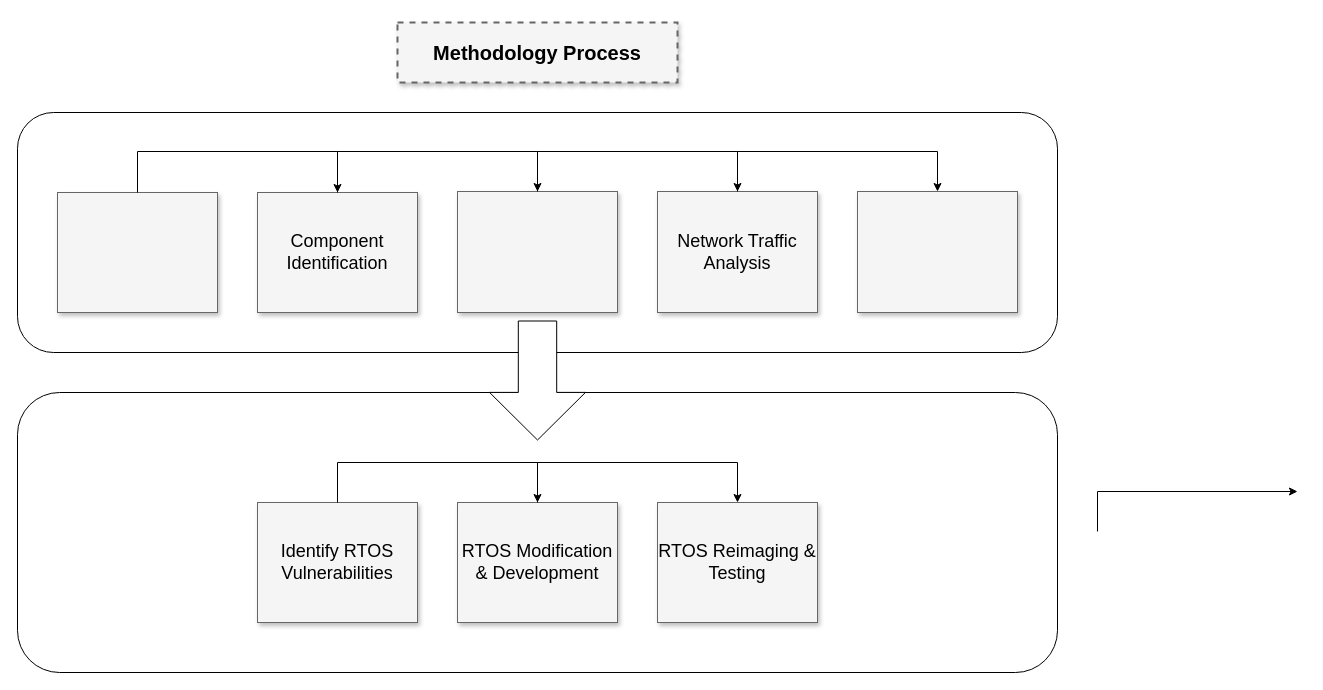
This 1323x690 diagram has some shape labels left out. Here are the shapes that lost their labels. From the top down, the centre of each, then its label:
(x=138, y=254): Teardown & Discovery
(x=538, y=253): Firmware Recovery and Analysis
(x=938, y=253): USB Comm. Analysis
